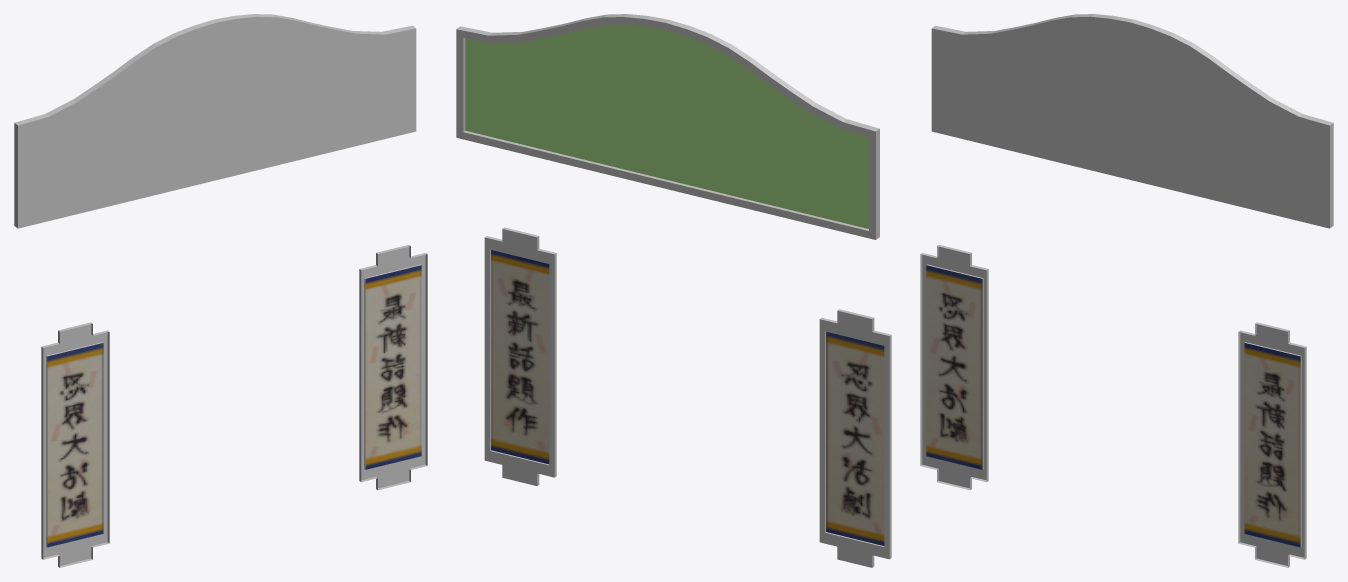
Rendered from SM_ENV_KNVLLG_Signs_4.mo.fbx.
The picture shows the model from 3 angles, left to right: view 1: azimuth 30°, elevation 25°; view 2: azimuth 150°, elevation 25°; view 3: azimuth 330°, elevation 25°; orthographic projection. The views are drawn at different scales.
Parts seen in each view (by area): view 1: SM_ENV_KNVLLG_Signs_4.mo; view 2: SM_ENV_KNVLLG_Signs_4.mo; view 3: SM_ENV_KNVLLG_Signs_4.mo.
Part boxes in pixels (left/top/right/bottom): SM_ENV_KNVLLG_Signs_4.mo: left=14, top=14, right=427, bottom=567; SM_ENV_KNVLLG_Signs_4.mo: left=456, top=14, right=891, bottom=567; SM_ENV_KNVLLG_Signs_4.mo: left=920, top=14, right=1333, bottom=567.
Size of the model in its own units: 12 by 14.09 by 1.15.
